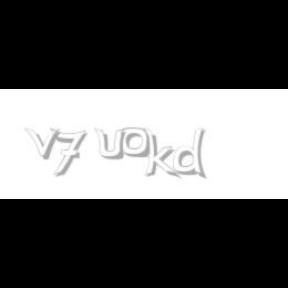7: (51, 128, 88, 178)
d: (174, 128, 210, 180)
k: (143, 128, 181, 180)
o: (120, 128, 150, 158)
u: (94, 128, 130, 160)
v: (24, 128, 64, 160)
